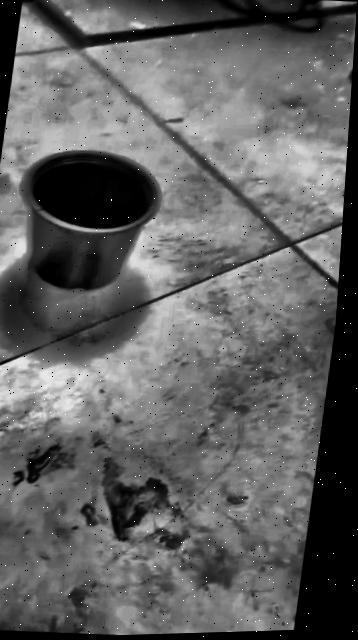pot: (9, 145, 166, 296)
